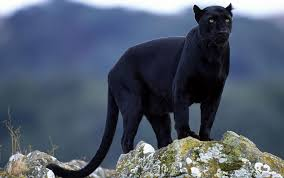panther: (45, 1, 234, 178)
